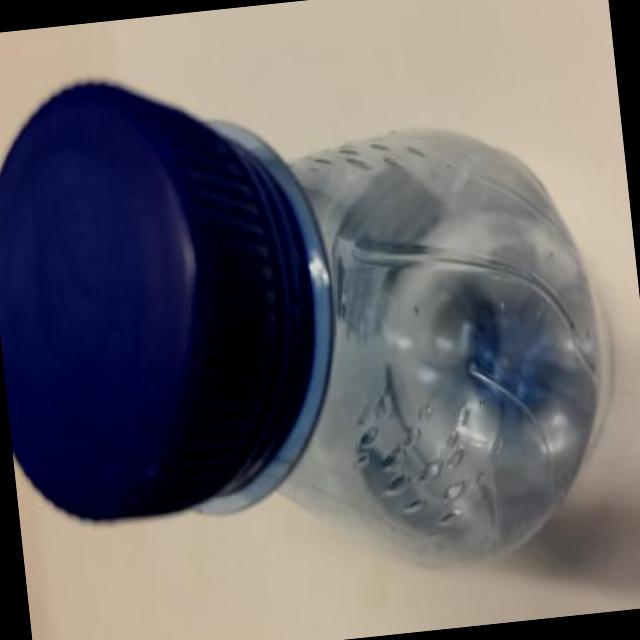Trash: (0, 26, 639, 635)
